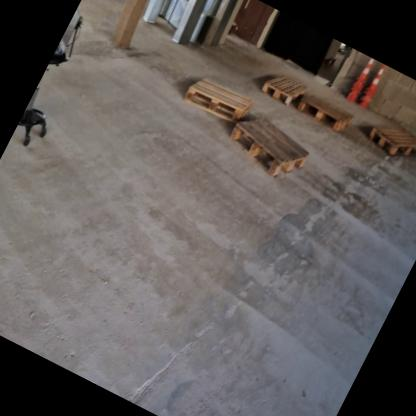BoxFace: (229, 110, 312, 182), (178, 71, 257, 128), (294, 87, 357, 137), (256, 69, 312, 109), (366, 122, 416, 160)
